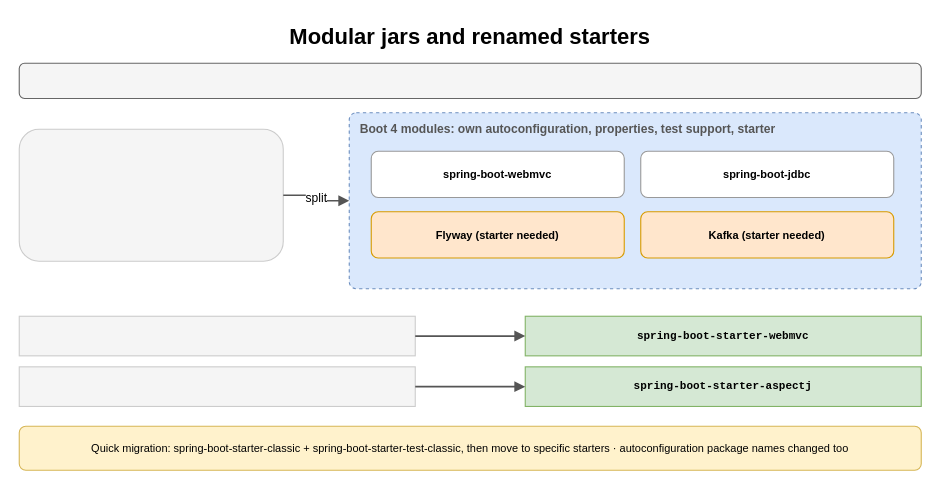
This 941x490 diagram has some shape labels left out. Each missing label, with the centre of its shape:
"Boot 3 spring-boot-autoconfigure (everything in one jar)" belongs at (150,194).
"One large autoconfigure jar becomes a module and starter per technology" belongs at (469,80).
"spring-boot-starter-aop" belongs at (216,386).
"spring-boot-starter-web" belongs at (216,335).
